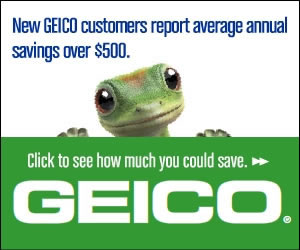Geico: (14, 179, 287, 223)
